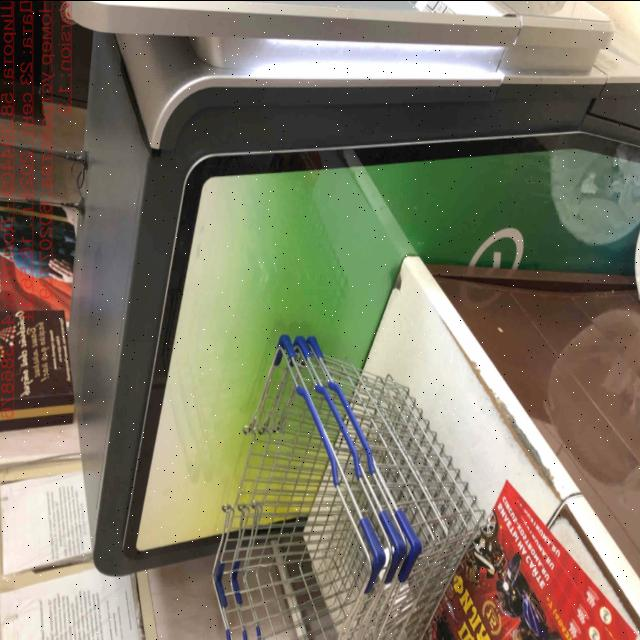bank: (58, 0, 640, 577)
